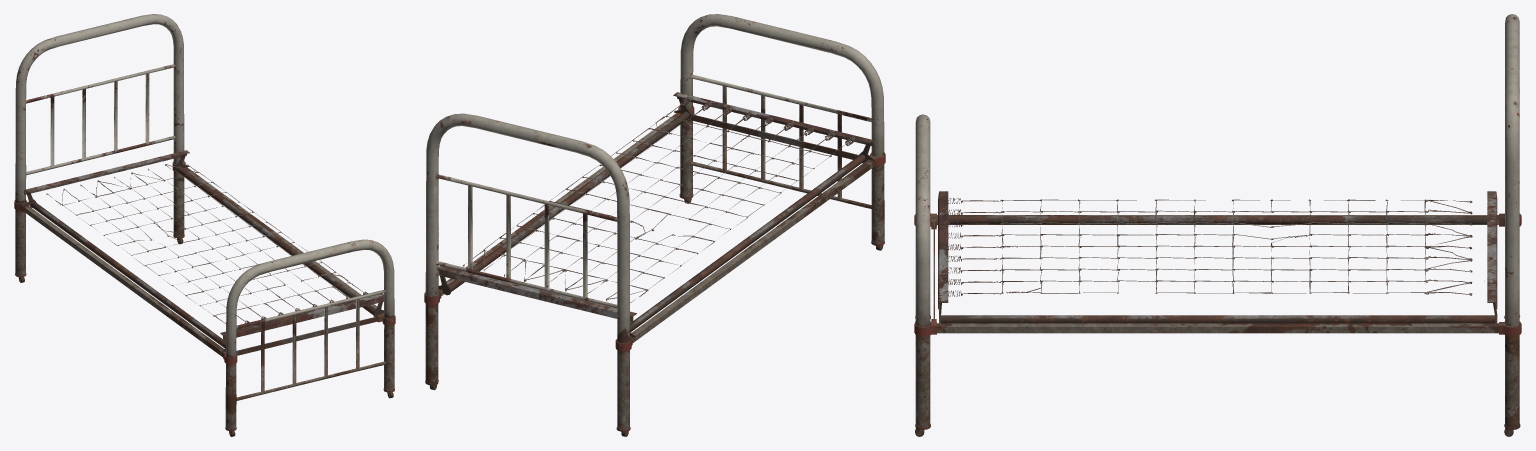
Rendered from old_bed_frame.glb.
3 views of the same model, side by side, from view 1: azimuth 30°, elevation 25°; view 2: azimuth 150°, elevation 25°; view 3: azimuth 270°, elevation 25° (orthographic). The views are drawn at different scales.
Parts seen in each view (by area): view 1: old_bed_frame; view 2: old_bed_frame; view 3: old_bed_frame.
Part boxes in pixels (<box>): old_bed_frame: <box>14,14,395,436</box>; old_bed_frame: <box>424,14,885,436</box>; old_bed_frame: <box>914,14,1521,436</box>.
Bounding box in the file's own units: 0.9047 × 1.2 × 2.
1 material, 1 textured.
